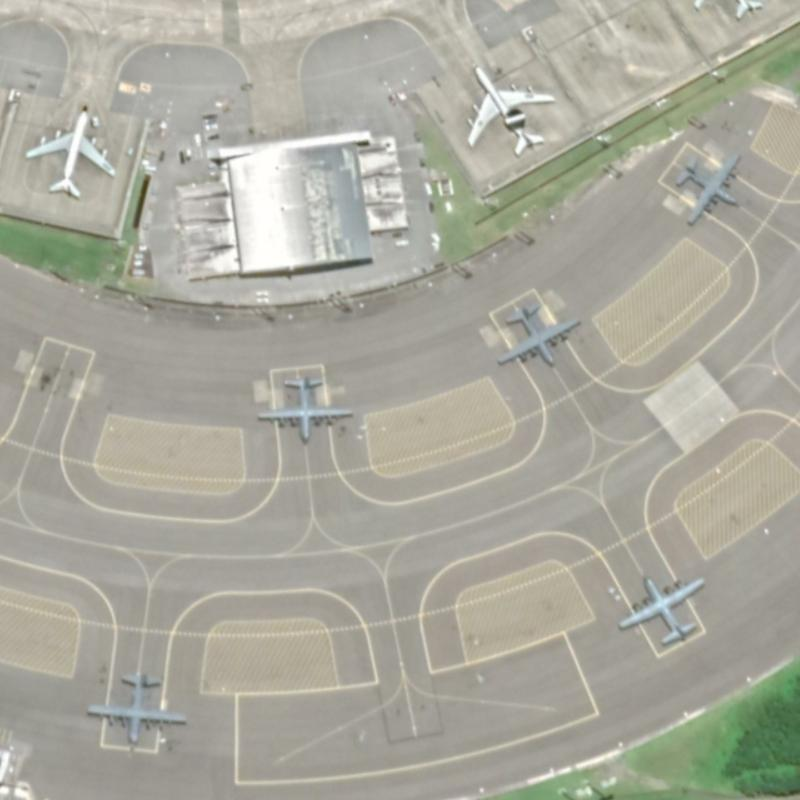A11: (21, 99, 120, 205)
A2: (609, 563, 710, 654), (81, 667, 191, 750), (249, 370, 359, 451), (485, 299, 582, 374), (664, 143, 749, 227)
A7: (459, 55, 559, 160)
